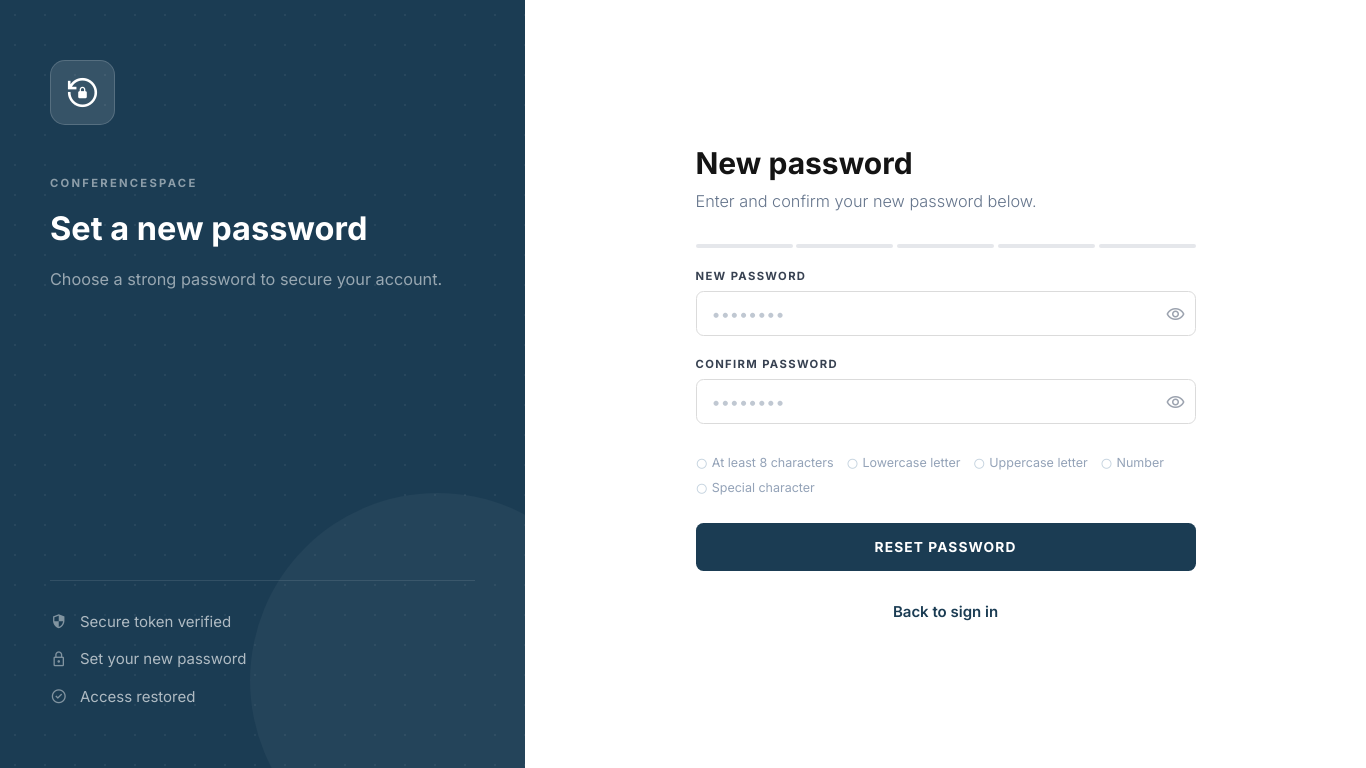
Test case: ResetPasswordPage › shows error message on API error
The width and height of the screenshot is (1366, 768).
expect the heading "New password" is shown: met, box [696, 145, 913, 181]
Type "StrongP@ss1" into the password field labelled "New password" at (946,314), box [696, 291, 1196, 336]
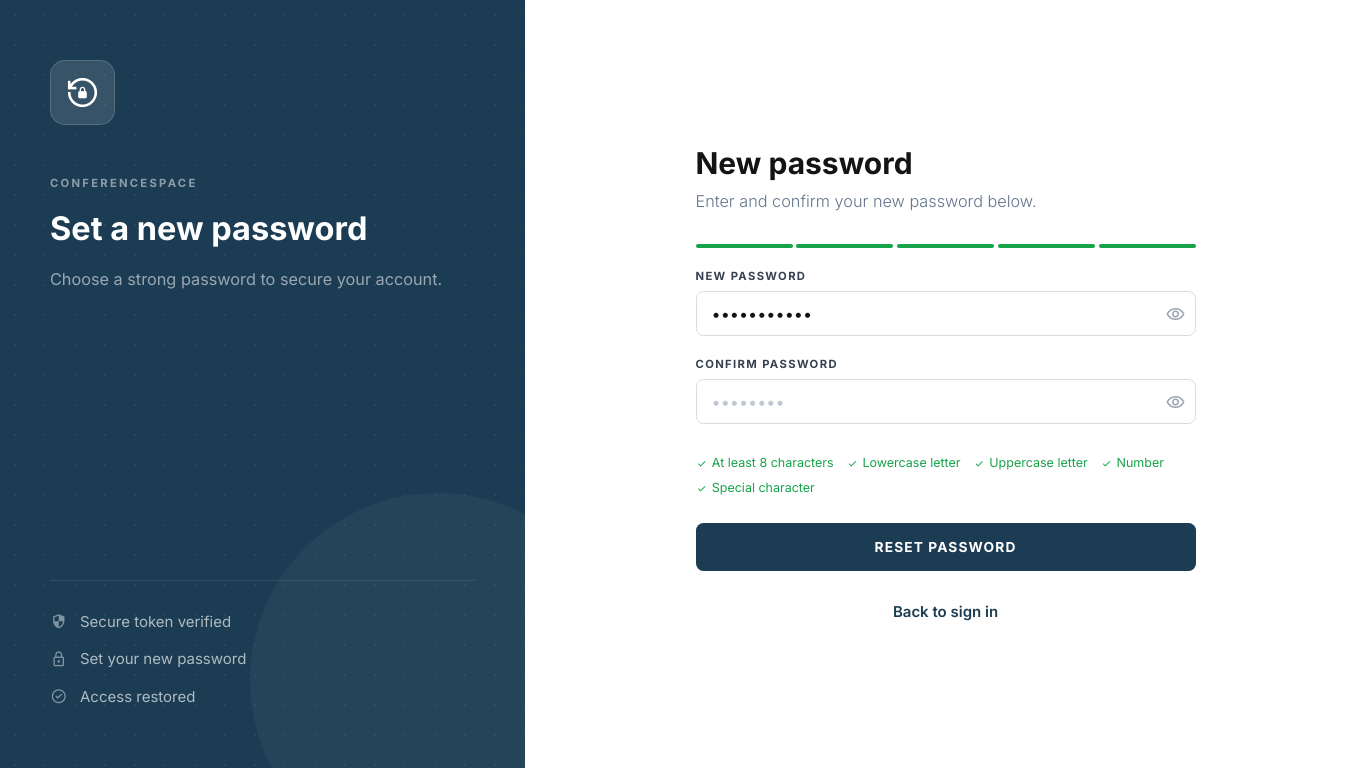
Type "StrongP@ss1" into the password field labelled "Confirm password" at (946,402), box [696, 379, 1196, 424]
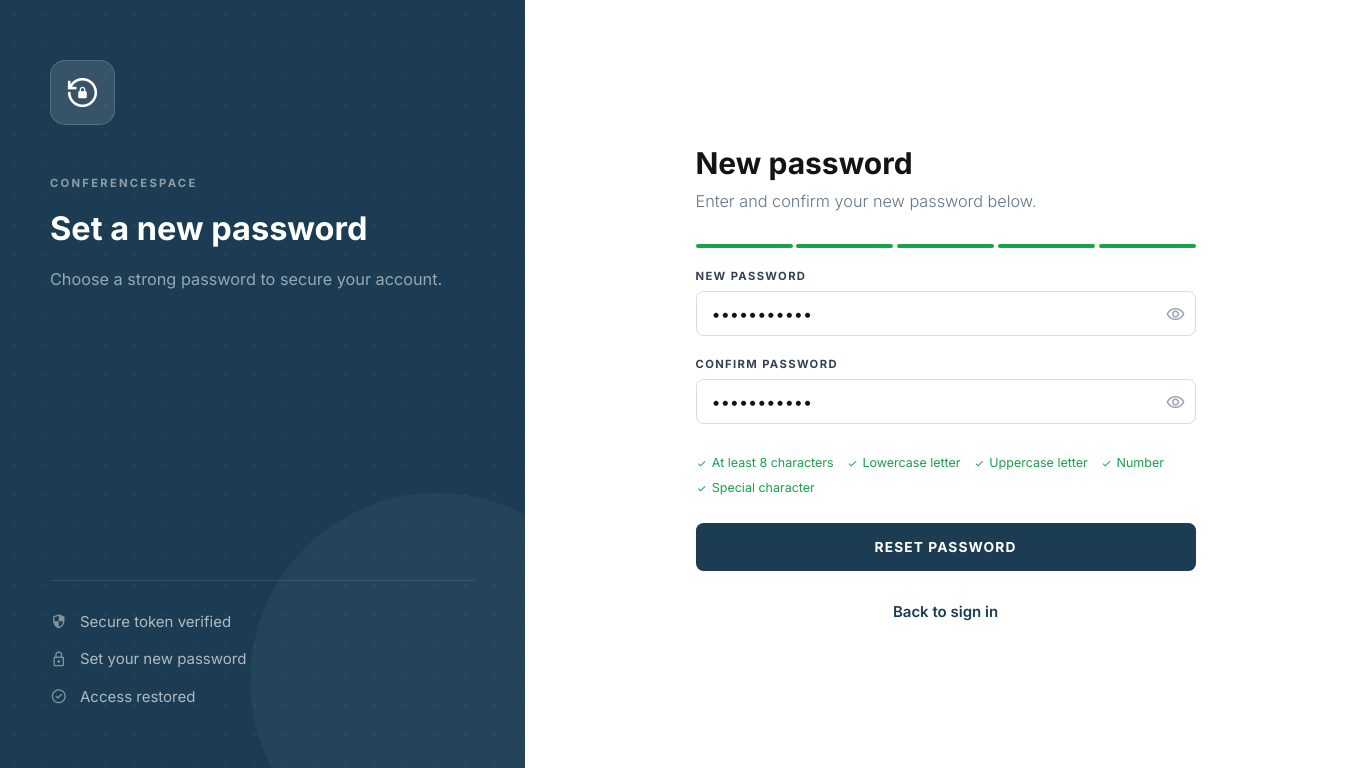
Click the button "Reset password" at (946,547), box [696, 523, 1196, 571]
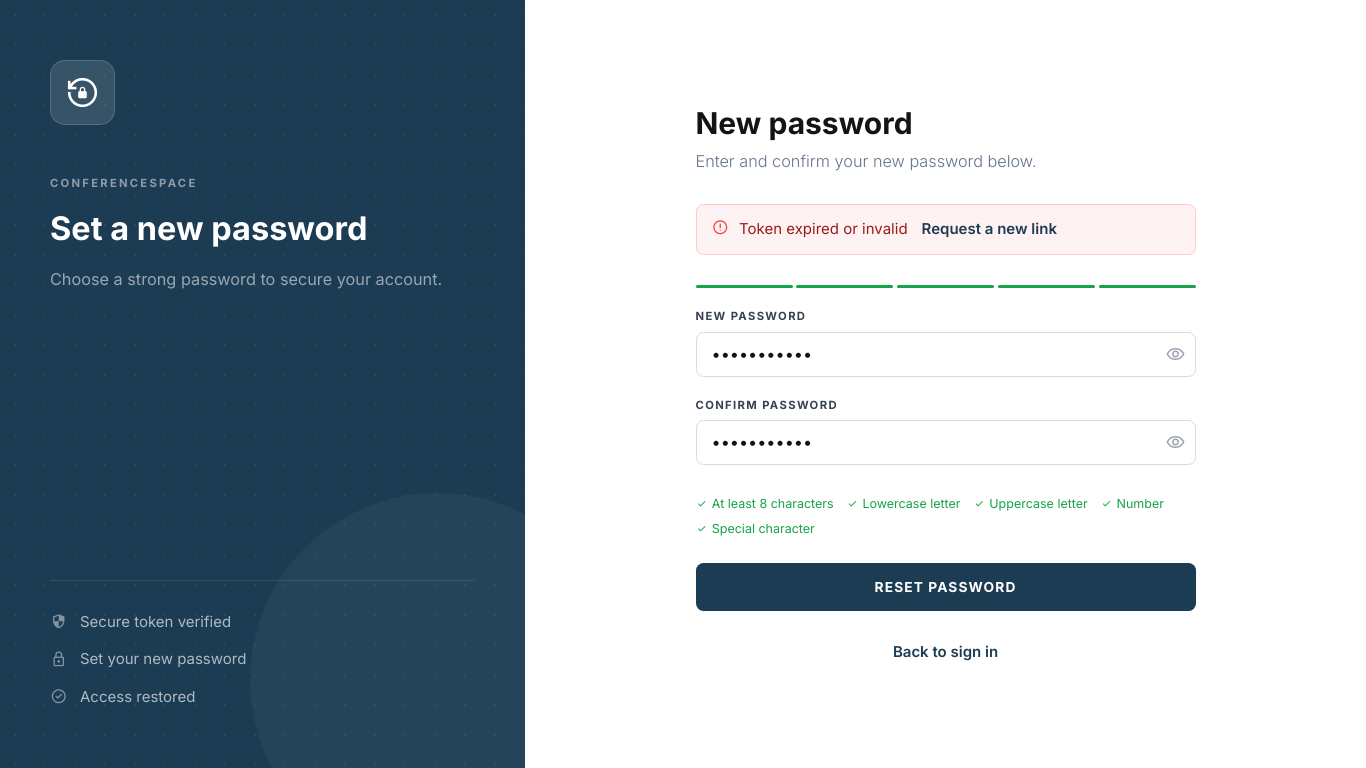
expect the text "Token expired or invalid" is shown: met, box [739, 218, 908, 240]
